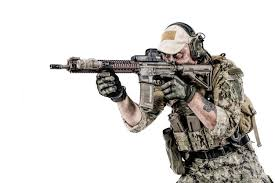gun: (47, 48, 218, 116)
